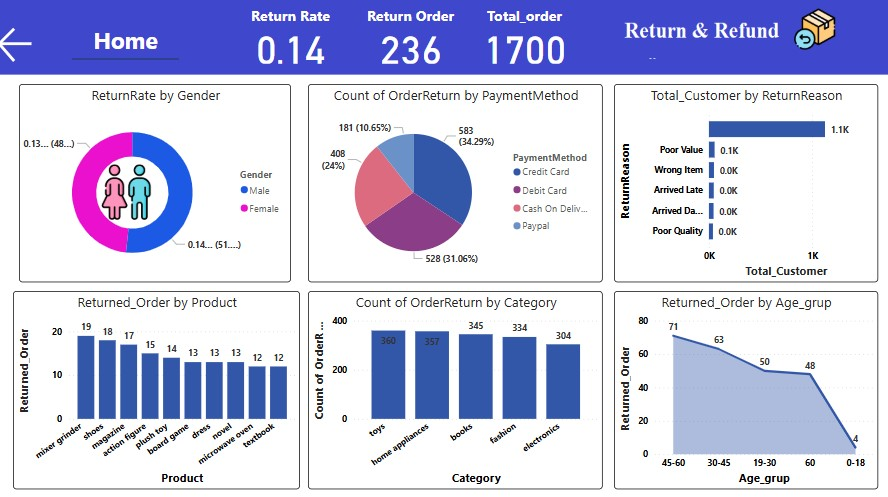

Layout of this report page (visuals, bound fields, positions):
{"tool":"powerbi","page":{"name":"Return & refund","canvas":[1280,720],"ordinal":4},"visuals":[{"type":"barChart","fields":{"Category":["Customer_Insights.ReturnReason"],"Y":["New_MEASURE.Total_Customer"]},"box":[875.3,124.2,372.7,279.5],"z":0},{"type":"pieChart","fields":{"Category":["Customer_Insights.PaymentMethod"],"Y":["CountNonNull(Customer_Insights.OrderReturn)"]},"box":[443.3,124.2,416.5,279.5],"z":1000},{"type":"columnChart","fields":{"Category":["Customer_Insights.Category"],"Y":["CountNonNull(Customer_Insights.OrderReturn)"]},"box":[443.3,416.5,416.5,279.5],"z":2000},{"type":"areaChart","fields":{"Category":["Customer_insight.Age_grup"],"Y":["New_MEASURE.Returned_Order"]},"box":[875.3,416.5,372.7,279.5],"z":3000},{"type":"card","title":"Return Rate","fields":{"Values":["New_MEASURE.ReturnRate"]},"box":[338.8,12.7,159.5,87.5],"z":4000},{"type":"card","title":"Return Order","fields":{"Values":["New_MEASURE.Returned_Order"]},"box":[508.2,12.7,159.5,87.5],"z":5000},{"type":"card","title":"Total_order","fields":{"Values":["New_MEASURE.Total_order"]},"box":[667.8,12.7,162.4,87.5],"z":6000},{"type":"actionButton","box":[0,33.9,158.1,64.9],"z":7000},{"type":"shape","title":"Home","box":[110.1,39.5,151.1,50.8],"z":8000},{"type":"clusteredColumnChart","fields":{"Y":["New_MEASURE.Returned_Order"],"Category":["Customer_insight.Product"]},"box":[26.8,416.5,405.2,279.5],"z":9000},{"type":"donutChart","fields":{"Category":["Customer_Insights.Gender"],"Y":["New_MEASURE.ReturnRate"]},"box":[35.3,124.2,384,279.5],"z":10000},{"type":"image","box":[142.6,232.9,87.5,87.5],"z":11000},{"type":"image","box":[1109.6,12.7,98.8,67.8],"z":12000}]}

Visuals, with their boxes in screenshot pixels (x1, y1, x2, y2), scaled from the page's 1280x720 canvas onto the 888x497 screenshot:
barChart - Customer_Insights.ReturnReason x New_MEASURE.Total_Customer: 607, 86, 866, 279
pieChart - Customer_Insights.PaymentMethod x CountNonNull(Customer_Insights.OrderReturn): 308, 86, 596, 279
columnChart - Customer_Insights.Category x CountNonNull(Customer_Insights.OrderReturn): 308, 288, 596, 480
areaChart - Customer_insight.Age_grup x New_MEASURE.Returned_Order: 607, 288, 866, 480
"Return Rate" card: 235, 9, 346, 69
"Return Order" card: 353, 9, 463, 69
"Total_order" card: 463, 9, 576, 69
actionButton: 0, 23, 110, 68
"Home" shape: 76, 27, 181, 62
clusteredColumnChart - New_MEASURE.Returned_Order x Customer_insight.Product: 19, 288, 300, 480
donutChart - Customer_Insights.Gender x New_MEASURE.ReturnRate: 24, 86, 291, 279
image: 99, 161, 160, 221
image: 770, 9, 838, 56
